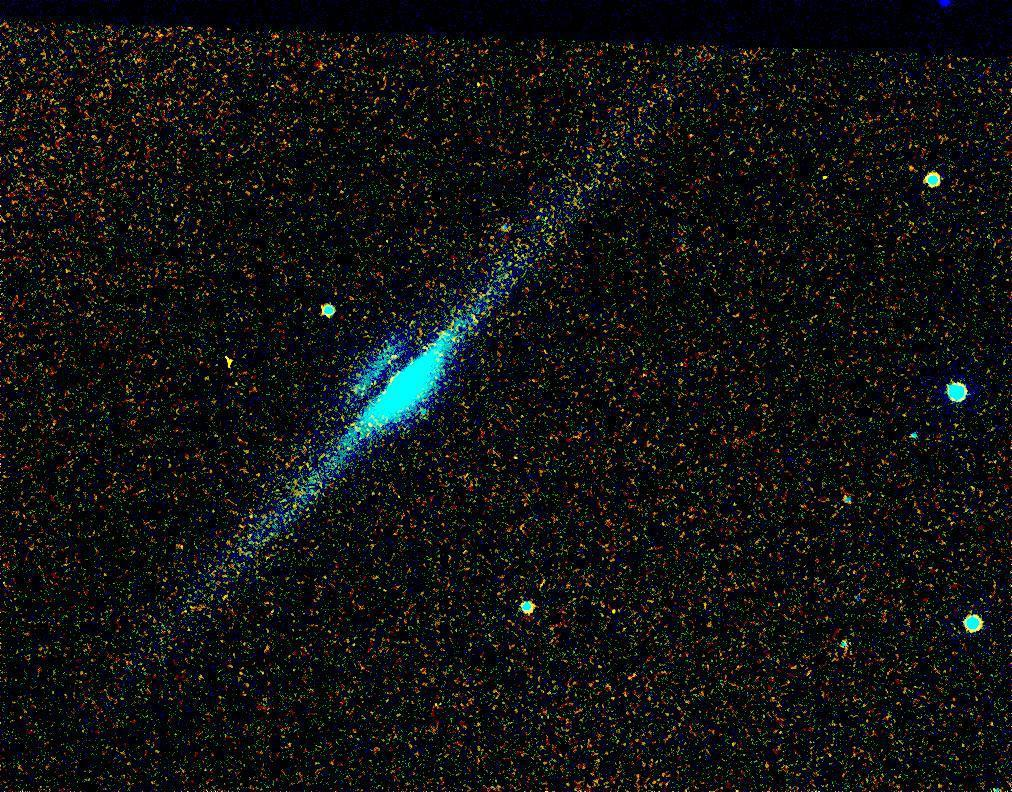star: (213, 349, 243, 379)
